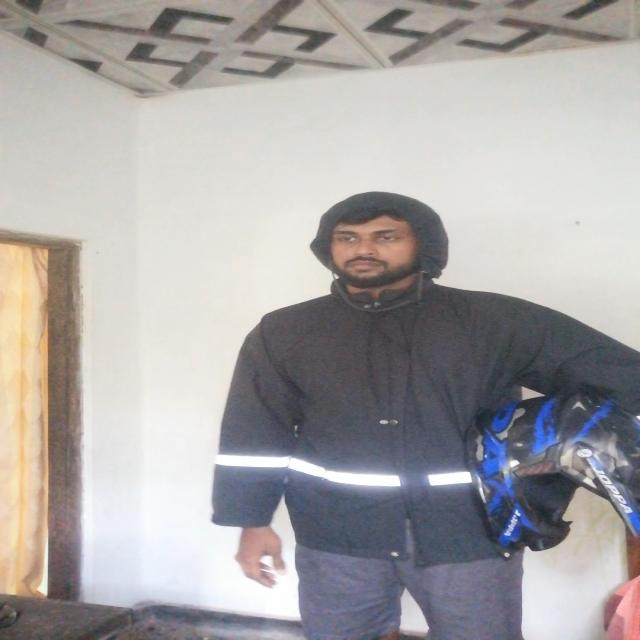Jacket_Wearer: (198, 285, 640, 556)
Person: (201, 184, 640, 627)
